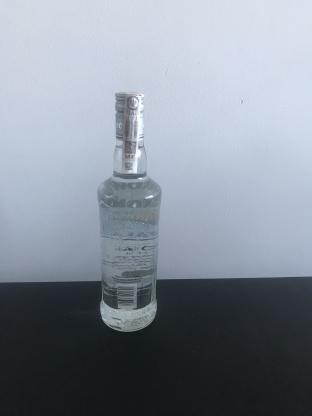nakretka: (112, 86, 147, 143)
